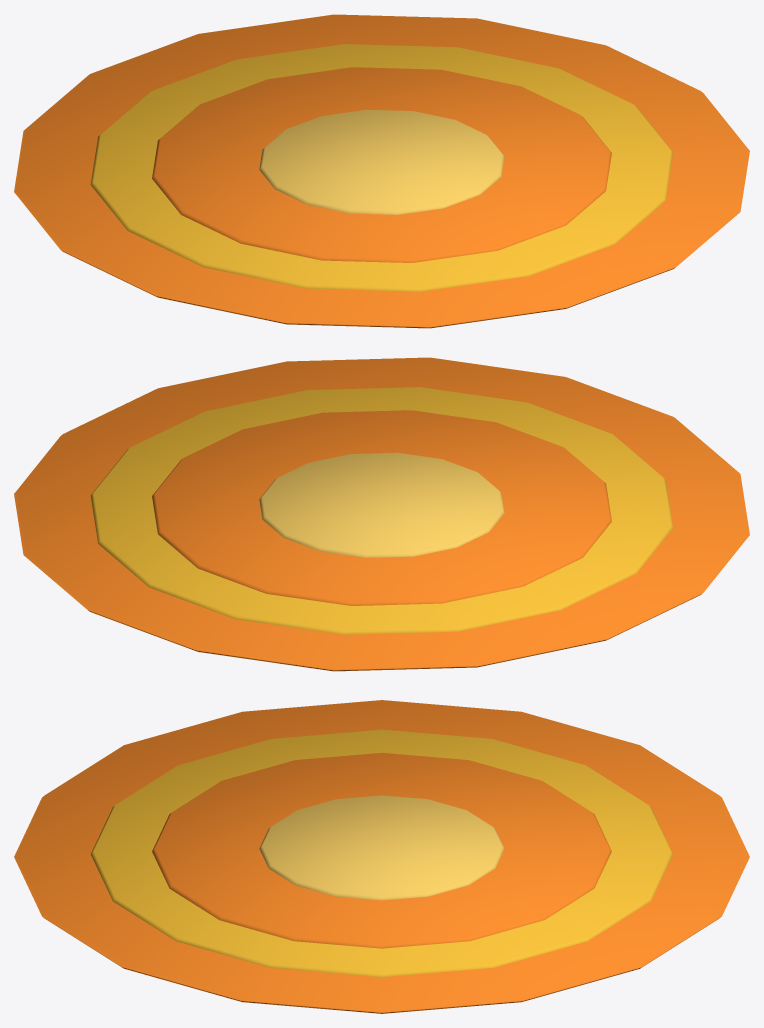
Rendered from X_MedOilWarning.fbx.
The picture shows the model from 3 angles, top to bottom: view 1: azimuth 30°, elevation 25°; view 2: azimuth 150°, elevation 25°; view 3: azimuth 270°, elevation 25°; orthographic projection.
Parts seen in each view (by area): view 1: M_OilWarning; view 2: M_OilWarning; view 3: M_OilWarning.
Part boxes in pixels (x1=…): M_OilWarning: x1=14, y1=14, x2=749, y2=328; M_OilWarning: x1=14, y1=357, x2=749, y2=671; M_OilWarning: x1=14, y1=700, x2=749, y2=1013.
Bounding box in the file's own units: 2.4 × 0.05 × 2.4.
Materials: 1 (1 with a texture image).
